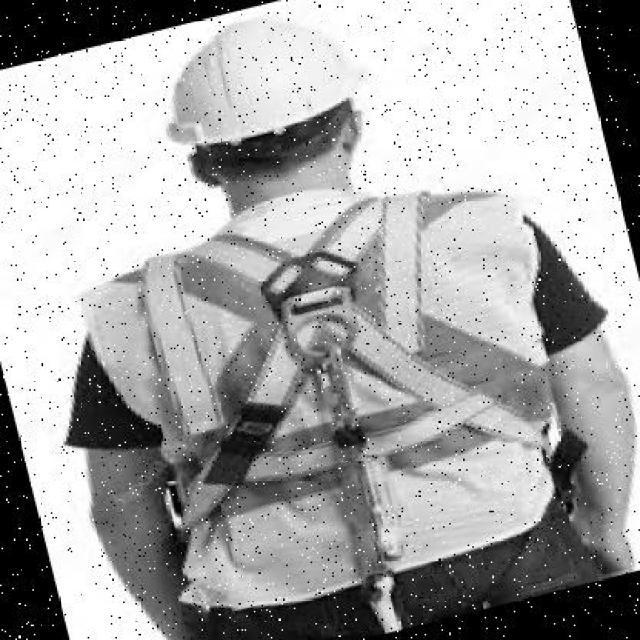Arnes_seguridad: (110, 173, 544, 542)
